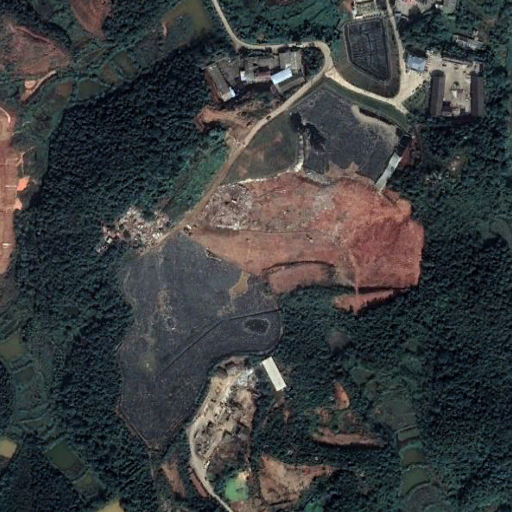lf: (111, 86, 421, 447)
